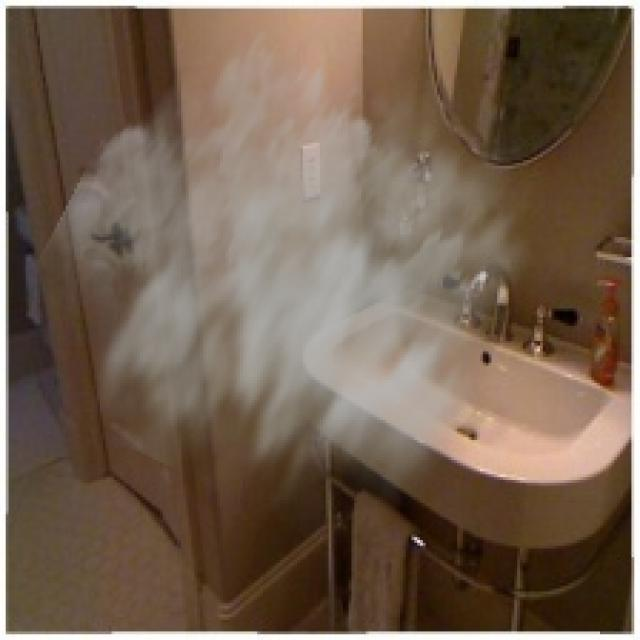smoke: (23, 26, 551, 574)
